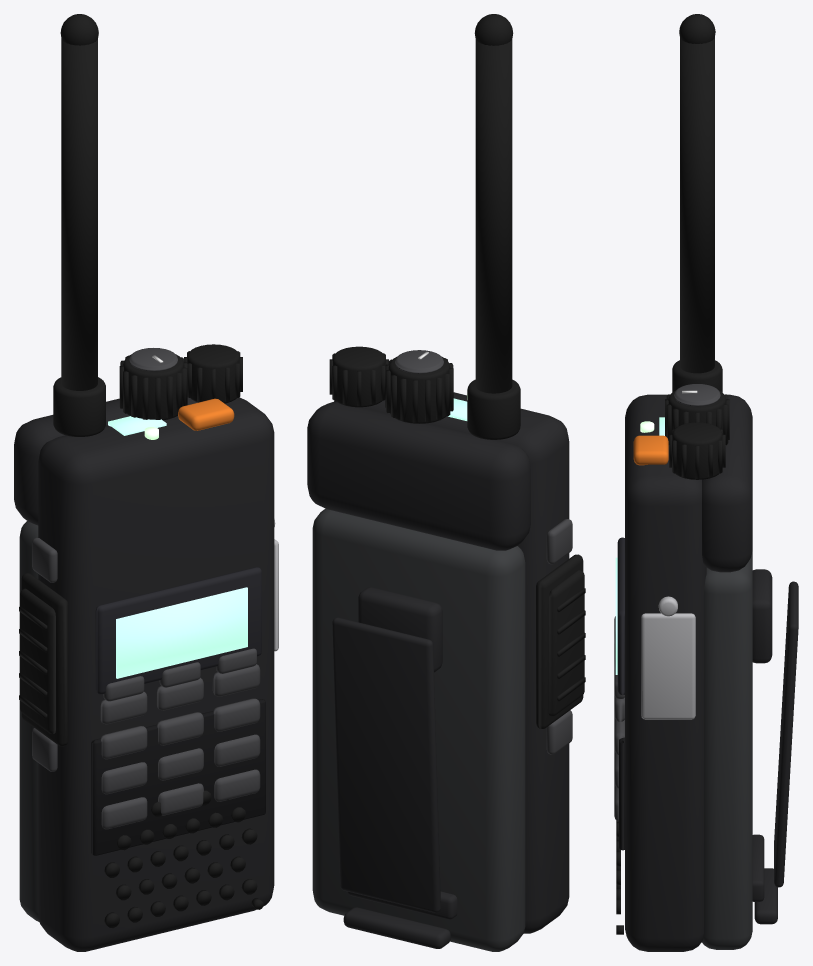
The model's file is PoliceRadio.fbx.
3 views of the same model, side by side, from view 1: azimuth 30°, elevation 25°; view 2: azimuth 150°, elevation 25°; view 3: azimuth 270°, elevation 25° (orthographic). The views are drawn at different scales.
Parts seen in each view (by area): view 1: Body, Antenna, SpeakerPanel, LCD, DisplayBezel, Battery, PTT, TopBlock, PTT_Surround, AntennaBase, VolumeKnob, ChannelKnob (+21 smaller); view 2: Battery, BeltClip, TopBlock, Body, Antenna, PTT, BeltClipMount, PTT_Surround, AntennaBase, ClipLip, VolumeKnob, ChannelKnob (+5 smaller); view 3: Body, Battery, Antenna, TopBlock, AccessoryPort, BeltClip, VolumeKnob, BeltClipMount, DisplayBezel, EmergencyButton, ClipLip, ChannelKnob (+5 smaller).
Part boxes in pixels (box(x1,y1,x2,y2)): Body: box(38, 397, 274, 951); Antenna: box(61, 38, 97, 390); SpeakerPanel: box(91, 699, 265, 855); LCD: box(116, 587, 247, 678); DisplayBezel: box(95, 567, 261, 694); Battery: box(19, 521, 39, 921); PTT: box(20, 588, 55, 733); TopBlock: box(14, 397, 197, 525); PTT_Surround: box(21, 573, 68, 746); AntennaBase: box(53, 377, 105, 436); VolumeKnob: box(187, 344, 239, 403); ChannelKnob: box(123, 354, 184, 420); Battery: box(312, 508, 525, 951); BeltClip: box(332, 617, 440, 912); TopBlock: box(307, 402, 530, 550); Body: box(334, 392, 569, 933); Antenna: box(475, 39, 512, 393); PTT: box(548, 570, 584, 716); BeltClipMount: box(358, 587, 442, 672); PTT_Surround: box(536, 554, 583, 728); AntennaBase: box(467, 379, 520, 439); ClipLip: box(343, 907, 450, 948); VolumeKnob: box(332, 346, 385, 407); ChannelKnob: box(388, 356, 450, 423); Body: box(625, 394, 706, 951); Battery: box(702, 551, 752, 949); Antenna: box(680, 37, 714, 373); TopBlock: box(702, 394, 752, 572); AccessoryPort: box(641, 613, 695, 719); BeltClip: box(774, 581, 798, 887); VolumeKnob: box(672, 422, 722, 479); BeltClipMount: box(752, 569, 772, 663); DisplayBezel: box(617, 537, 624, 695); EmergencyButton: box(633, 435, 668, 465); ClipLip: box(754, 868, 777, 924); ChannelKnob: box(668, 390, 726, 434).
Bounding box in the file's own units: 0.0679 × 0.2472 × 0.0475.
